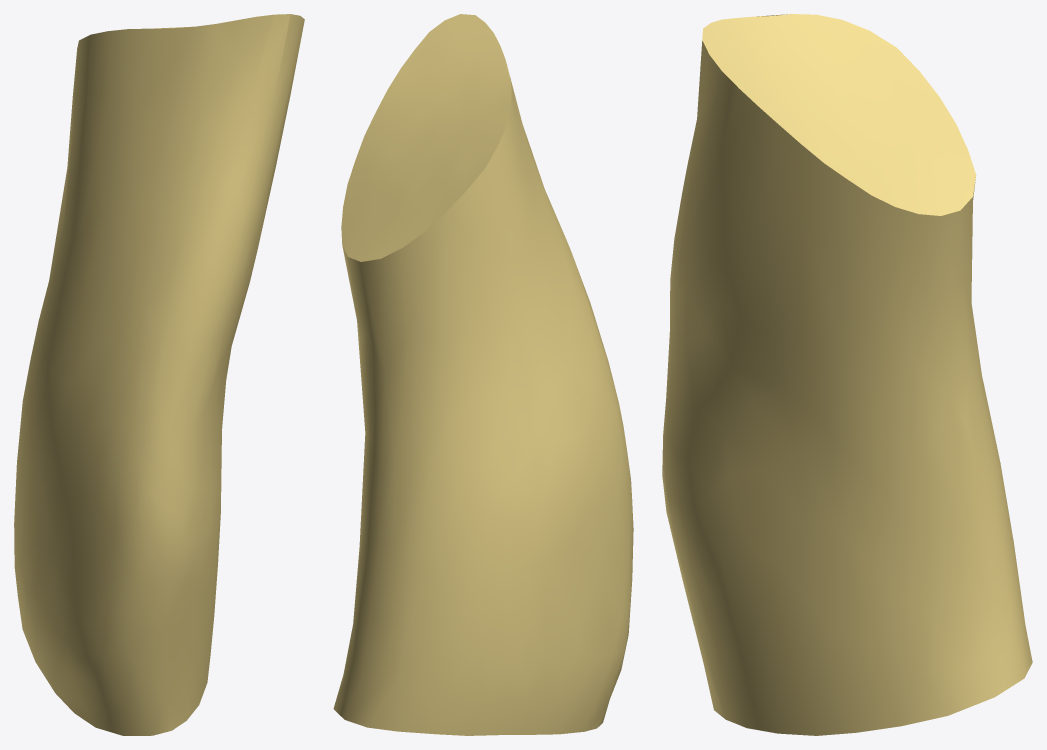
File: fma326188_mm2679m.glb
3 views of the same model, side by side, from view 1: azimuth 30°, elevation 25°; view 2: azimuth 150°, elevation 25°; view 3: azimuth 270°, elevation 25° (orthographic). The views are drawn at different scales.
Visible parts, largest first — view 1: FMA326188_MM2679M; view 2: FMA326188_MM2679M; view 3: FMA326188_MM2679M.
Boxes of the visible parts, x1,y1,x2,y2 form: FMA326188_MM2679M: (14,14,304,735); FMA326188_MM2679M: (333,14,633,735); FMA326188_MM2679M: (662,14,1032,735).
Bounding box in the file's own units: 0.00329 × 0.00926 × 0.00425.
